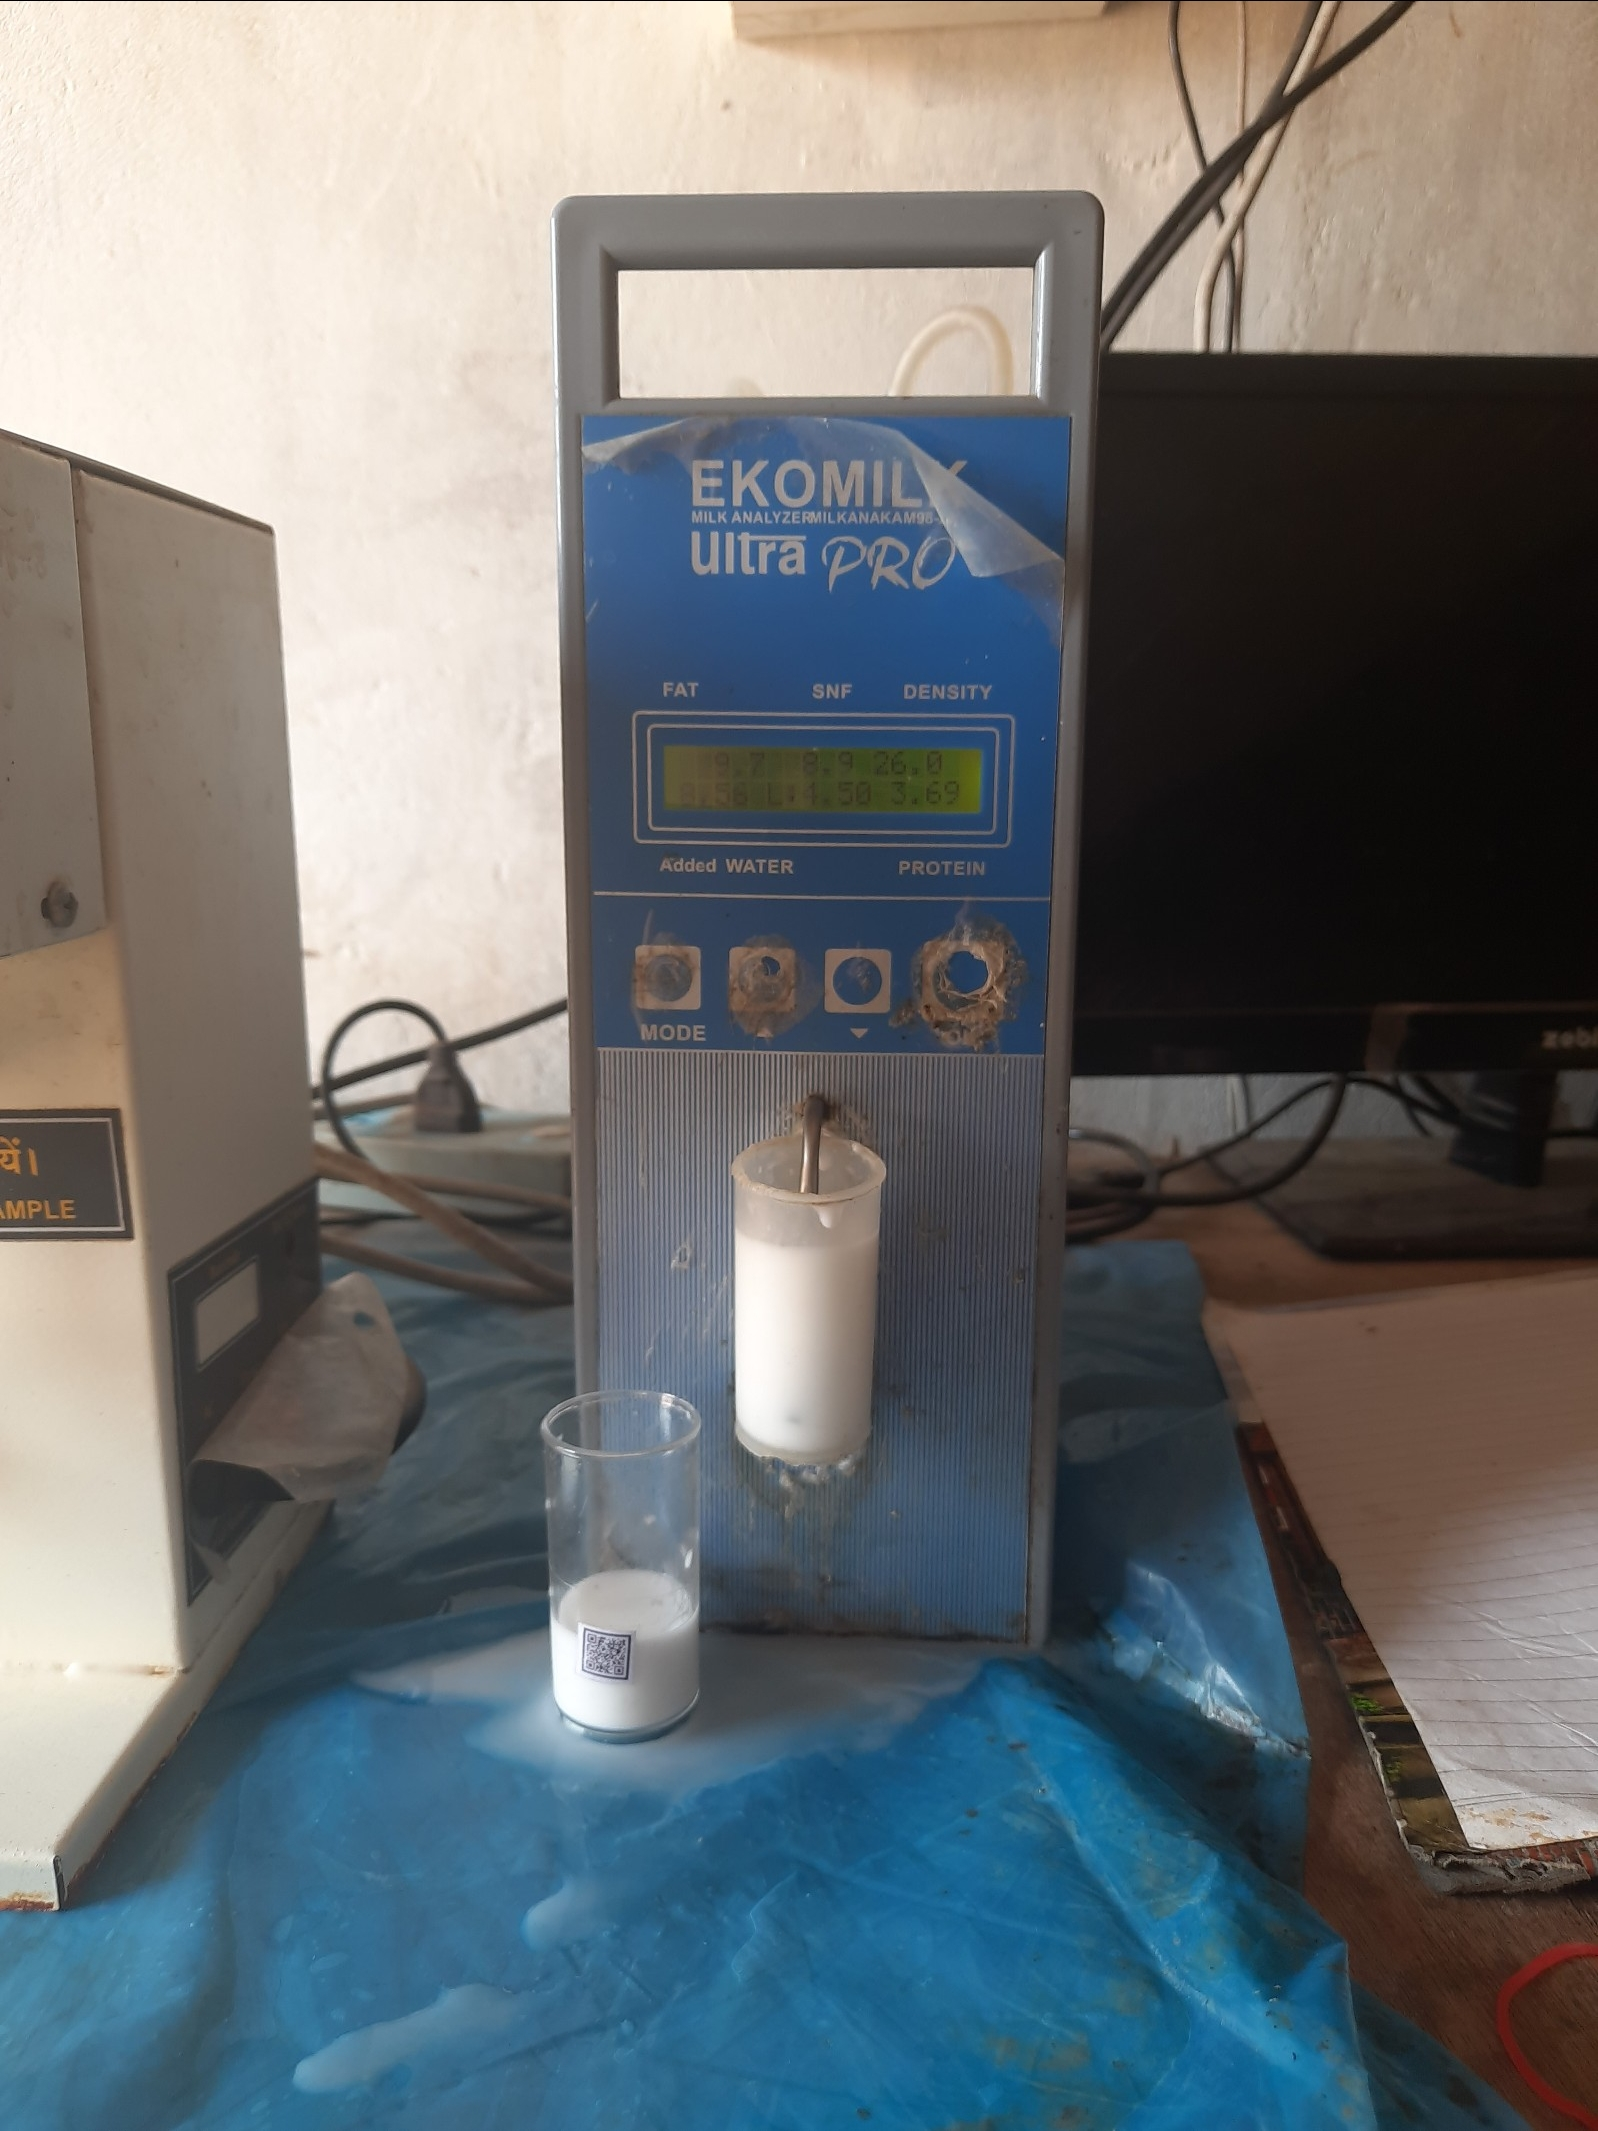lcd: (645, 737, 1036, 852)
qr: (557, 1626, 675, 1706)
